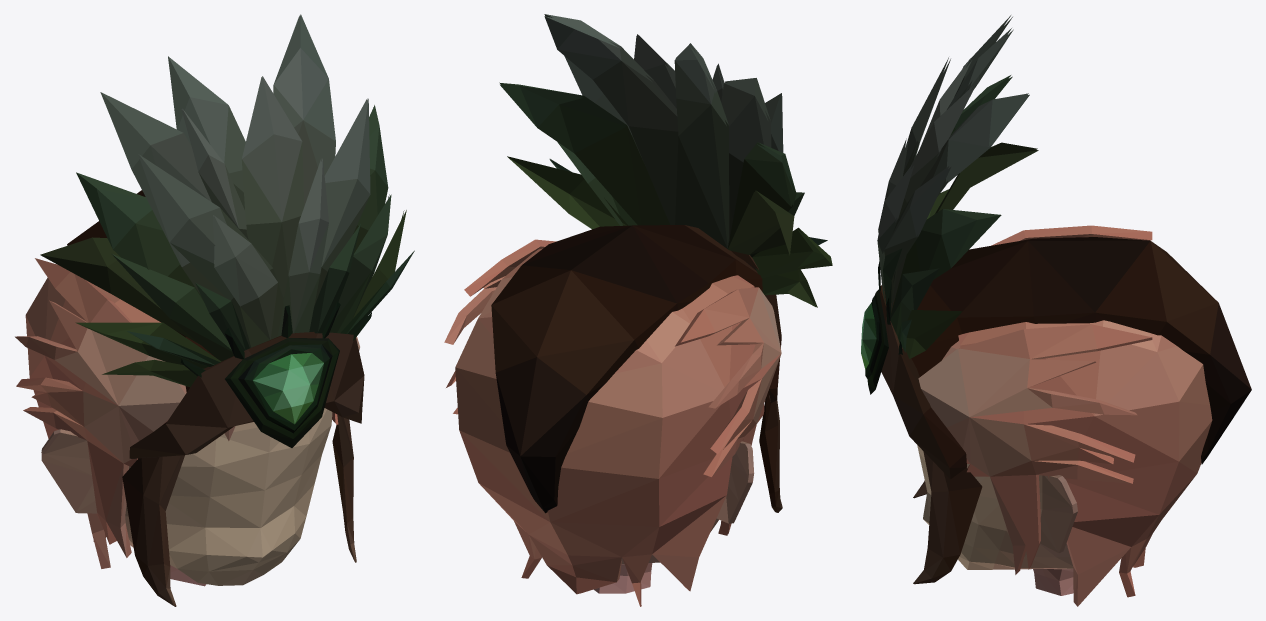
The model's file is helm_lightskin_spike_blonde_headress.fbx.
The picture shows the model from 3 angles, left to right: view 1: azimuth 30°, elevation 25°; view 2: azimuth 150°, elevation 25°; view 3: azimuth 270°, elevation 25°; orthographic projection. The views are drawn at different scales.
Visible parts, largest first — view 1: helm_lightskin_spike_blonde_headress; view 2: helm_lightskin_spike_blonde_headress; view 3: helm_lightskin_spike_blonde_headress.
Part boxes in pixels (<box>): helm_lightskin_spike_blonde_headress: <box>15,14,414,606</box>; helm_lightskin_spike_blonde_headress: <box>444,14,832,606</box>; helm_lightskin_spike_blonde_headress: <box>861,15,1251,606</box>.
Size of the model in its own units: 1.29 by 2.05 by 1.35.
